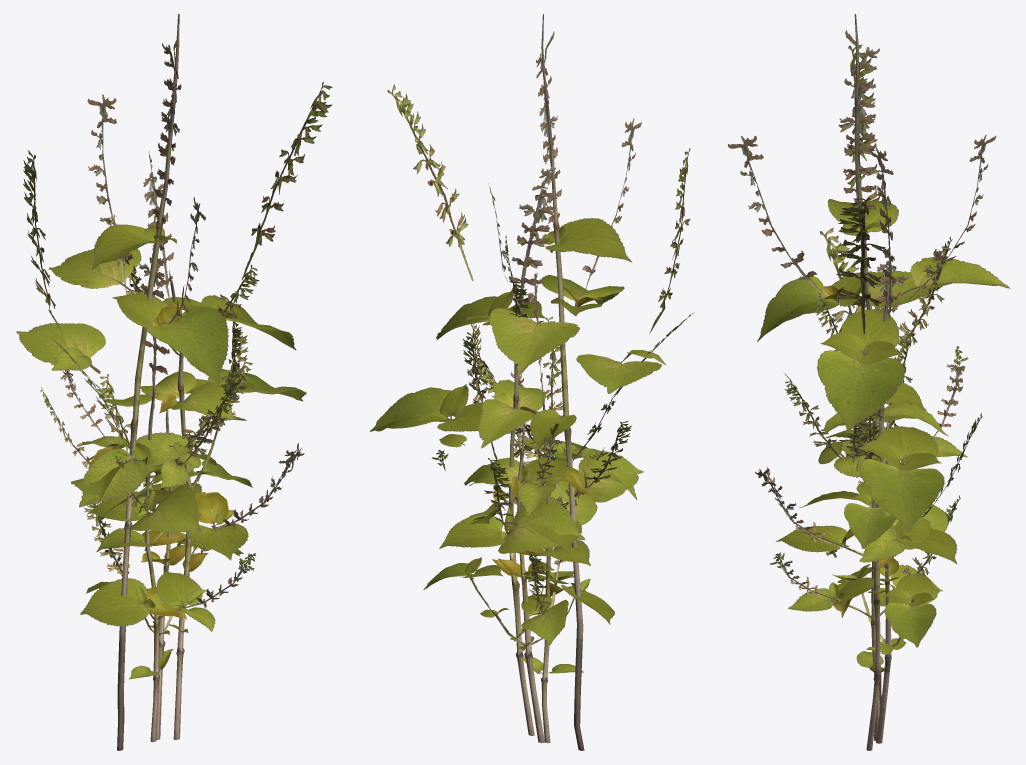
Rendered from arbusto_03.glb.
3 views of the same model, side by side, from view 1: azimuth 30°, elevation 25°; view 2: azimuth 150°, elevation 25°; view 3: azimuth 270°, elevation 25° (orthographic). The views are drawn at different scales.
Visible parts, largest first — view 1: arbusto_03_v0, arbusto_03_v1, arbusto_03_v2, arbusto_03_v3; view 2: arbusto_03_v0, arbusto_03_v1, arbusto_03_v2, arbusto_03_v3; view 3: arbusto_03_v0, arbusto_03_v1, arbusto_03_v2, arbusto_03_v3.
Boxes of the visible parts, x1,y1,x2,y2 form: arbusto_03_v0: (16, 14, 332, 750); arbusto_03_v1: (53, 151, 306, 739); arbusto_03_v2: (60, 253, 255, 742); arbusto_03_v3: (80, 393, 243, 740); arbusto_03_v0: (387, 14, 690, 750); arbusto_03_v1: (370, 166, 694, 735); arbusto_03_v2: (463, 272, 590, 743); arbusto_03_v3: (423, 409, 614, 743); arbusto_03_v0: (728, 14, 1010, 711); arbusto_03_v1: (755, 148, 982, 750); arbusto_03_v2: (770, 260, 968, 740); arbusto_03_v3: (799, 408, 936, 743).
Bounding box in the file's own units: 0.2015 × 0.4609 × 0.1627.
Materials: 1 (1 with a texture image).
